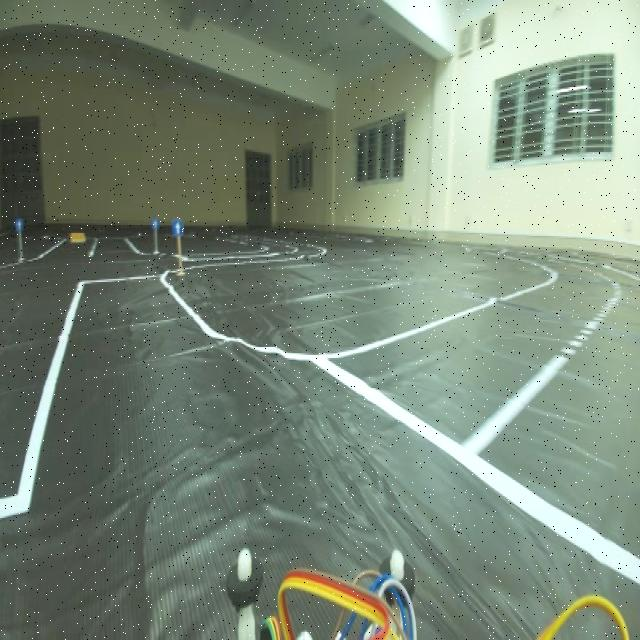onewayroad: (173, 213, 186, 238), (154, 215, 162, 230), (16, 215, 24, 230)
roadblock: (66, 230, 90, 245)
